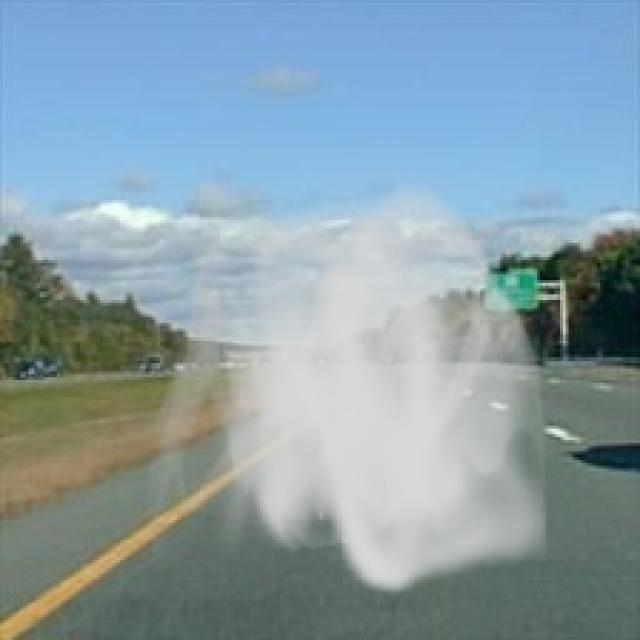smoke: (143, 172, 560, 597)
